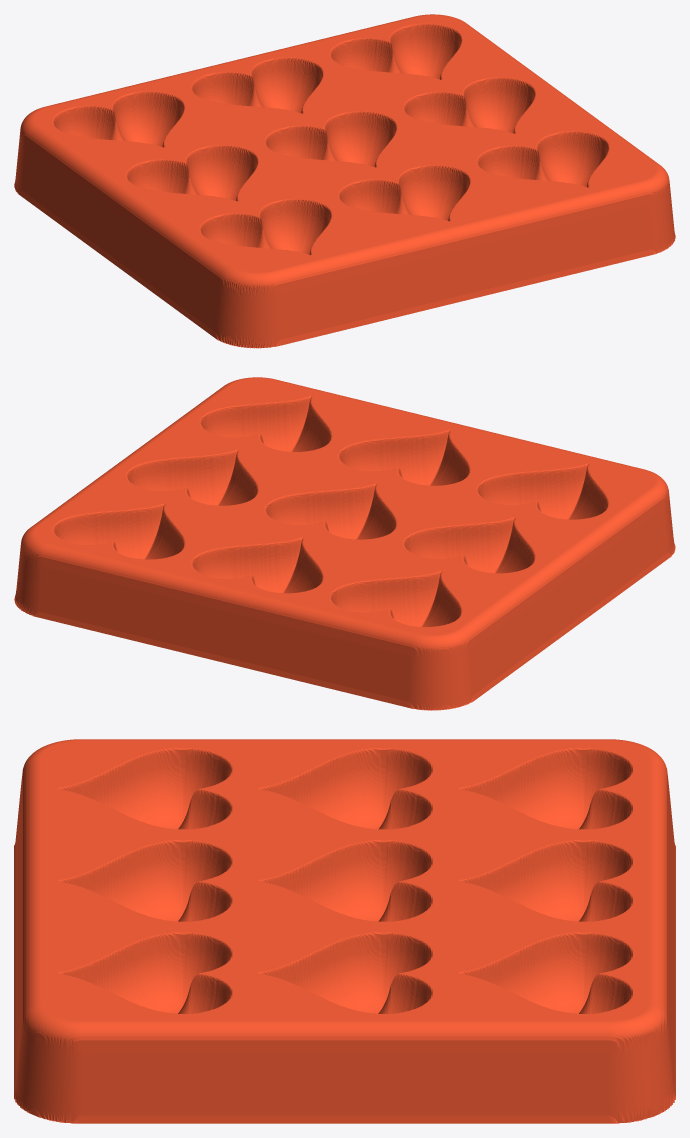
The model's file is mold.glb.
3 renders of one model, top to bottom at view 1: azimuth 30°, elevation 25°; view 2: azimuth 150°, elevation 25°; view 3: azimuth 270°, elevation 25°, orthographic. The views are drawn at different scales.
Parts seen in each view (by area): view 1: geometry_0; view 2: geometry_0; view 3: geometry_0.
Part boxes in pixels (<box>): geometry_0: <box>14,14,675,348</box>; geometry_0: <box>14,377,675,710</box>; geometry_0: <box>14,739,675,1123</box>.
Size of the model in its own units: 0.0964 by 0.0136 by 0.0892.
